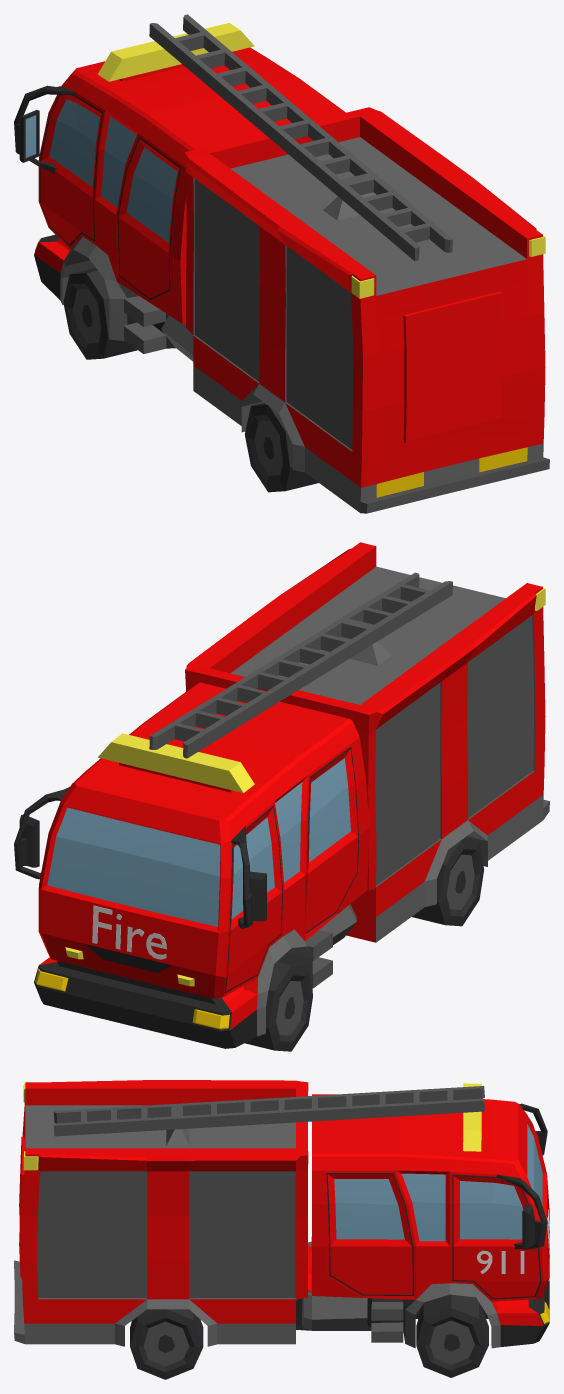
The model's file is FireTruck1.fbx.
3 views of the same model, one above another, from view 1: azimuth 30°, elevation 25°; view 2: azimuth 150°, elevation 25°; view 3: azimuth 270°, elevation 25° (orthographic). The views are drawn at different scales.
Visible parts, largest first — view 1: Shutter; view 2: Shutter; view 3: Shutter.
Boxes of the visible parts, x1,y1,x2,y2 form: Shutter: (14, 14, 549, 513); Shutter: (14, 542, 549, 1051); Shutter: (14, 1080, 549, 1379).
Bounding box in the file's own units: 288 × 343 × 672.
1 material, 1 textured.
